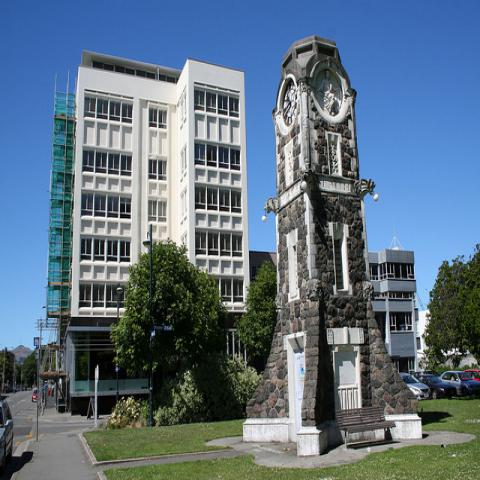car: (414, 373, 458, 401), (438, 370, 480, 396), (0, 398, 14, 474), (398, 372, 430, 398), (465, 369, 479, 382), (32, 389, 37, 402)
